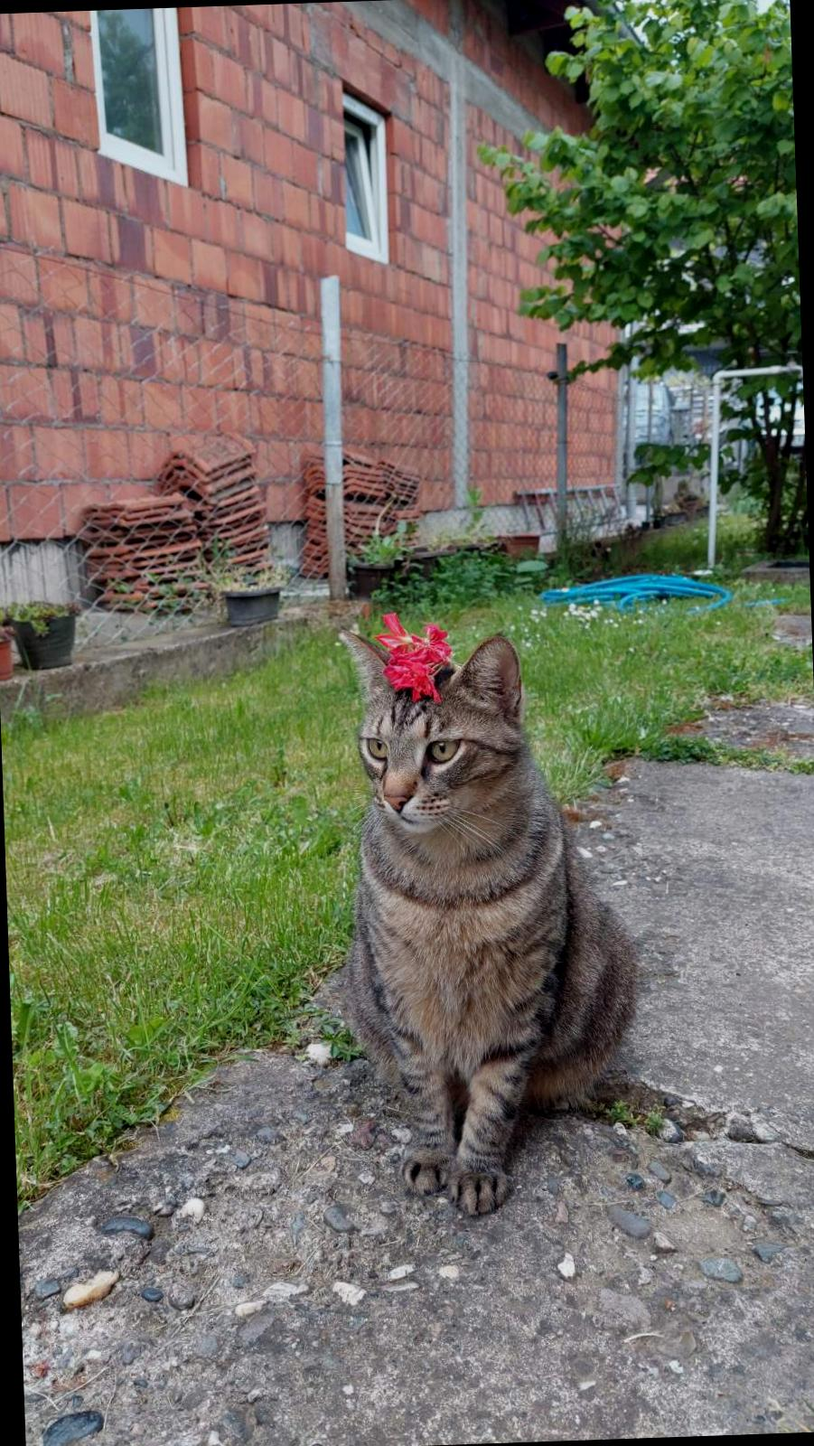macka: (335, 615, 647, 1220)
